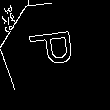P_E: (29, 32, 84, 75)
